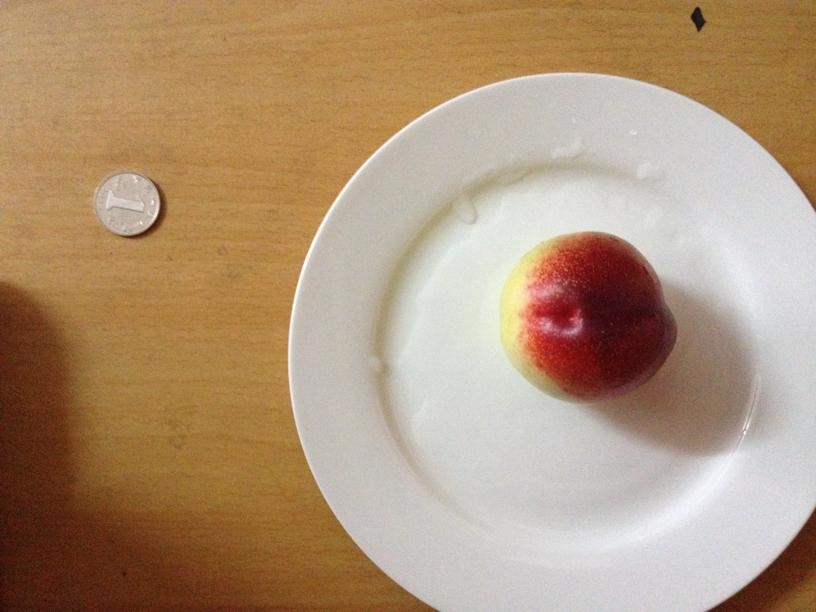coin: (90, 171, 162, 239)
peach: (496, 231, 680, 405)
